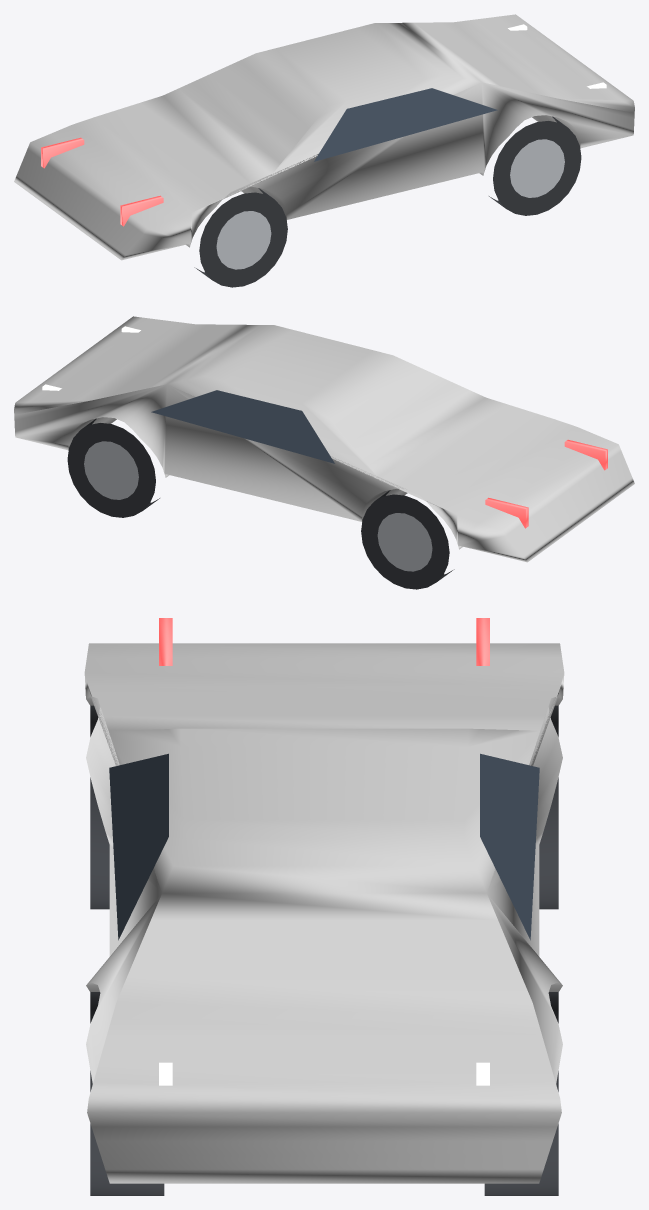
Rendered from corsa_f40.glb.
The picture shows the model from 3 angles, top to bottom: view 1: azimuth 30°, elevation 25°; view 2: azimuth 150°, elevation 25°; view 3: azimuth 270°, elevation 25°; orthographic projection. The views are drawn at different scales.
Visible parts, largest first — view 1: Car; view 2: Car; view 3: Car.
Part boxes in pixels (x1,y1,x2,y2): Car: [14, 14, 634, 287]; Car: [14, 316, 634, 589]; Car: [84, 618, 564, 1195].
Size of the model in its own units: 3.84 by 1 by 1.56.
